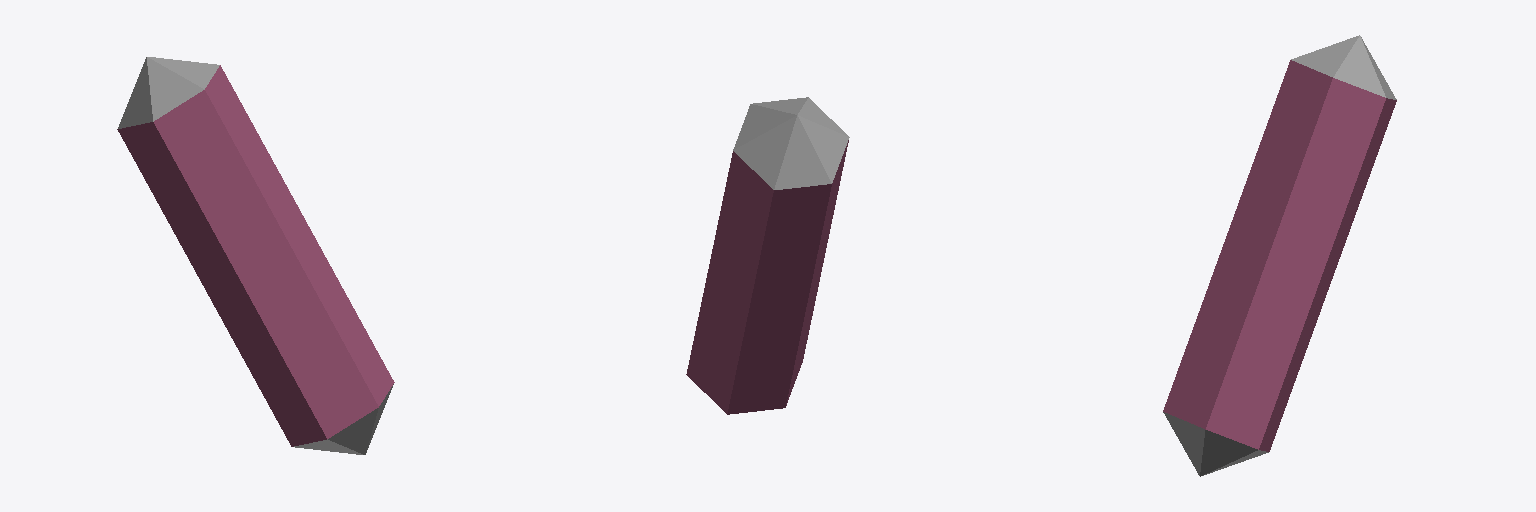
File: hex_crystal_30_45_small.obj
3 views of the same model, side by side, from view 1: azimuth 30°, elevation 25°; view 2: azimuth 150°, elevation 25°; view 3: azimuth 270°, elevation 25° (orthographic).
Visible parts, largest first — view 1: Cylinder; view 2: Cylinder; view 3: Cylinder.
Boxes of the visible parts, x1,y1,x2,y2 form: Cylinder: [117, 57, 394, 454]; Cylinder: [686, 97, 849, 414]; Cylinder: [1163, 35, 1396, 476].
Size of the model in its own units: 0.5462 by 0.9631 by 0.5462.